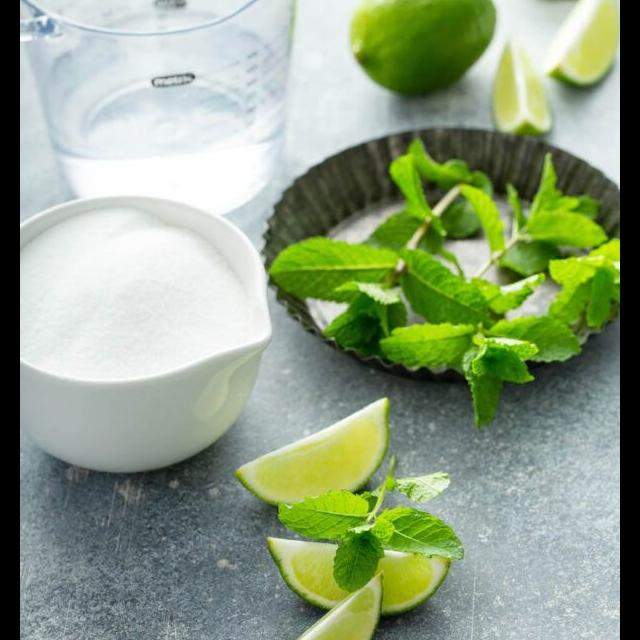lime: (334, 0, 508, 110)
